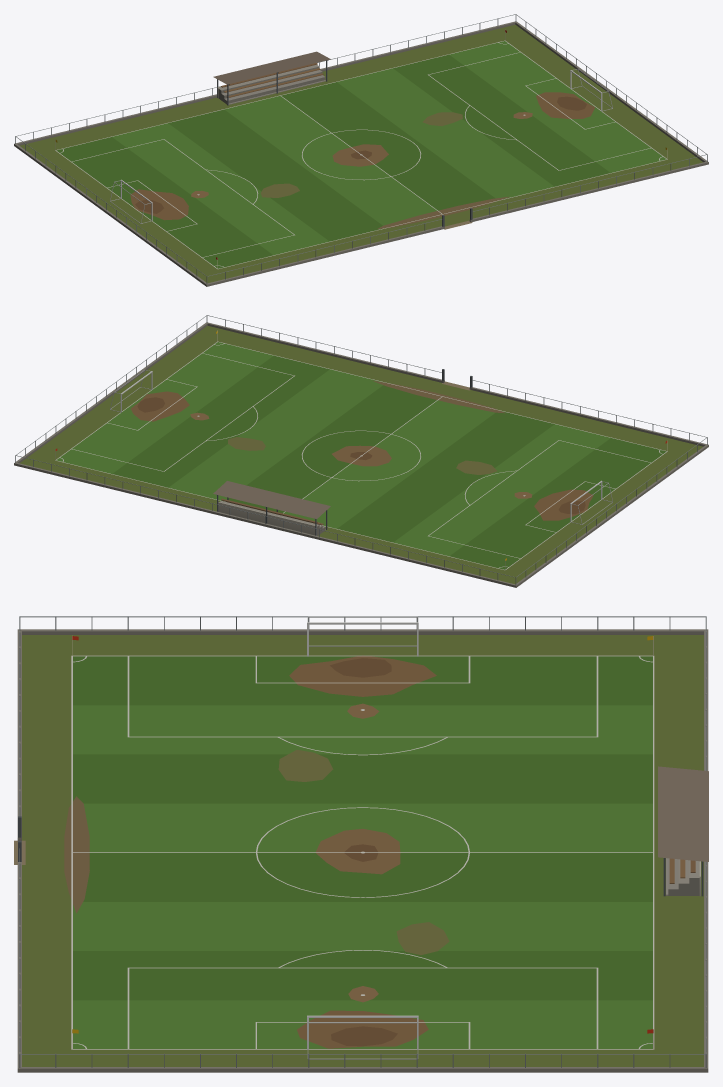
File: ns_pitch_lod1.glb
3 views of the same model, one above another, from view 1: azimuth 30°, elevation 25°; view 2: azimuth 150°, elevation 25°; view 3: azimuth 270°, elevation 25° (orthographic). The views are drawn at different scales.
Parts seen in each view (by area): view 1: ns_pitch_lod1; view 2: ns_pitch_lod1; view 3: ns_pitch_lod1.
Part boxes in pixels (x1,y1,x2,y2): ns_pitch_lod1: (14,14,708,286); ns_pitch_lod1: (14,315,708,587); ns_pitch_lod1: (14,616,708,1072).
Size of the model in its own units: 71.5 by 3.12 by 47.8.
